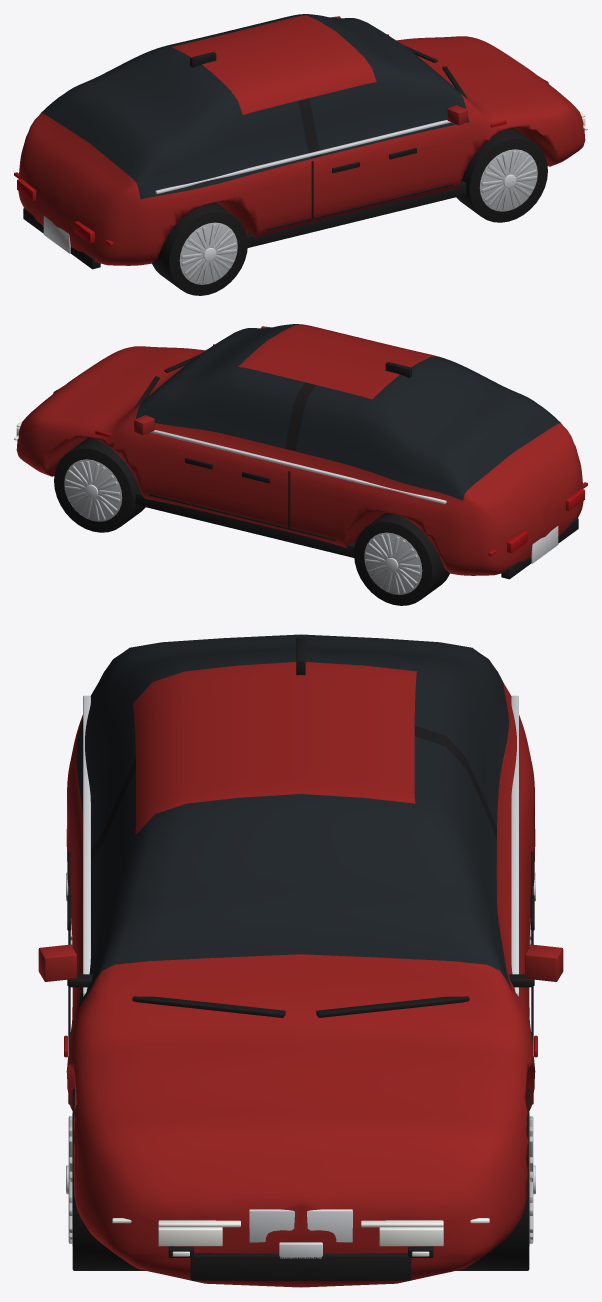
File: m_car_ev_0.fbx
3 renders of one model, top to bottom at view 1: azimuth 30°, elevation 25°; view 2: azimuth 150°, elevation 25°; view 3: azimuth 270°, elevation 25°, orthographic. The views are drawn at different scales.
Visible parts, largest first — view 1: m_car_ev_0; view 2: m_car_ev_0; view 3: m_car_ev_0.
Part boxes in pixels (<box>): m_car_ev_0: <box>14,14,587,295</box>; m_car_ev_0: <box>14,324,587,605</box>; m_car_ev_0: <box>38,634,563,1287</box>.
Bounding box in the file's own units: 1435 × 512 × 656.
